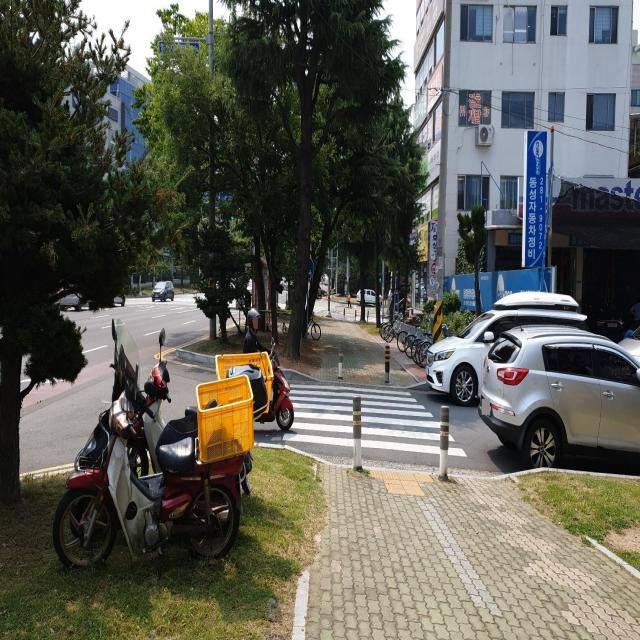횡단보도: (282, 383, 468, 459)
